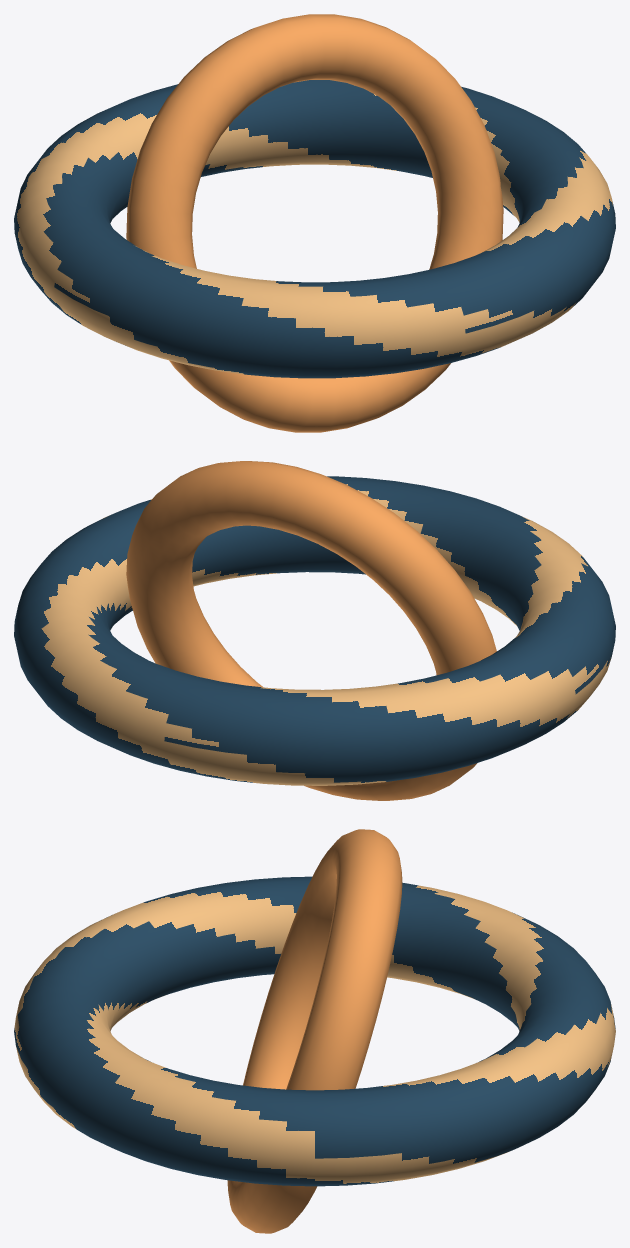
The model's file is anelli.glb.
3 renders of one model, top to bottom at view 1: azimuth 30°, elevation 25°; view 2: azimuth 150°, elevation 25°; view 3: azimuth 270°, elevation 25°, orthographic.
Bounding box in the file's own units: 2.38 × 1.59 × 2.38.
Materials: 2 (1 with a texture image).
